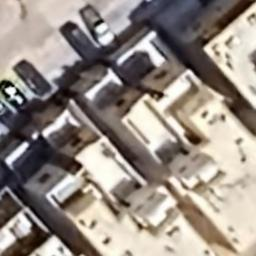sedan: (62, 20, 102, 64), (80, 6, 116, 46), (14, 60, 52, 96), (0, 97, 21, 131), (2, 82, 27, 106)
